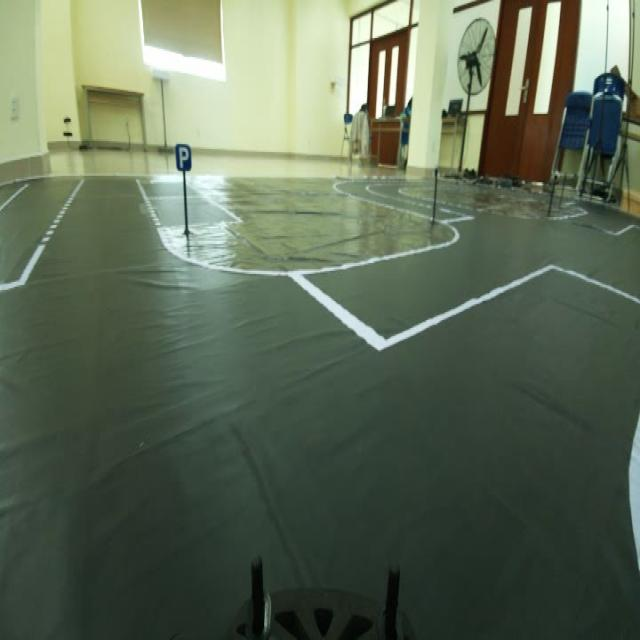parking: (173, 143, 194, 174)
